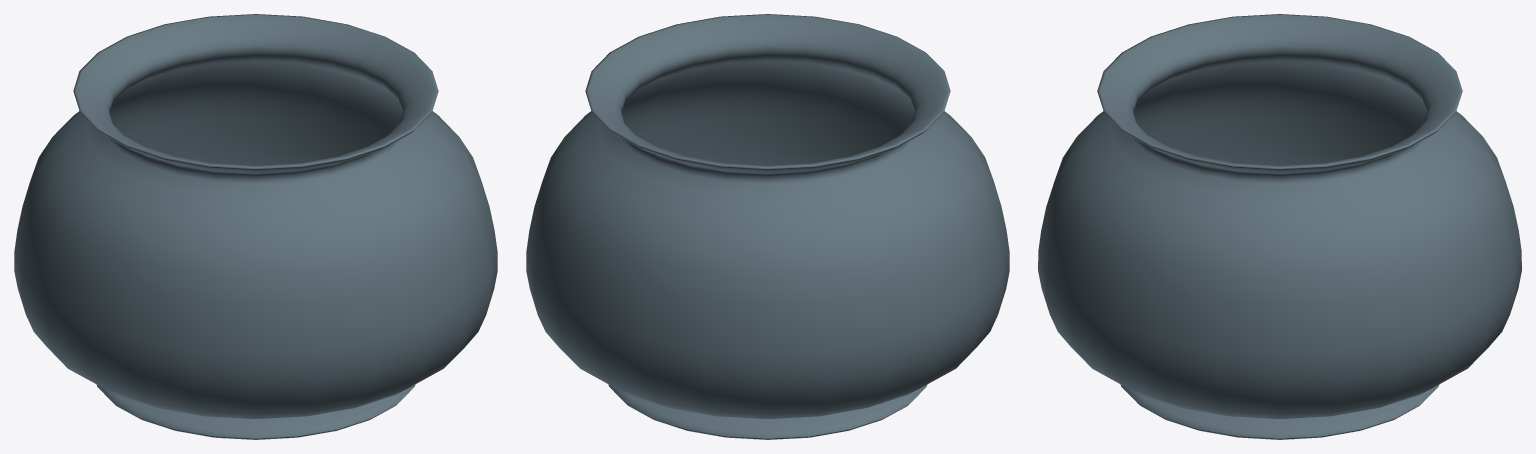
Rendered from Fish Surface Challenge.obj.
3 renders of one model, left to right at view 1: azimuth 30°, elevation 25°; view 2: azimuth 150°, elevation 25°; view 3: azimuth 270°, elevation 25°, orthographic.
Parts seen in each view (by area): view 1: Bowl_Mesh; view 2: Bowl_Mesh; view 3: Bowl_Mesh.
Boxes of the visible parts, box(x1,y1,x2,y2) form: Bowl_Mesh: box(14, 14, 497, 439); Bowl_Mesh: box(526, 14, 1009, 439); Bowl_Mesh: box(1038, 14, 1521, 439).
Bounding box in the file's own units: 12.11 × 7.82 × 12.11.
